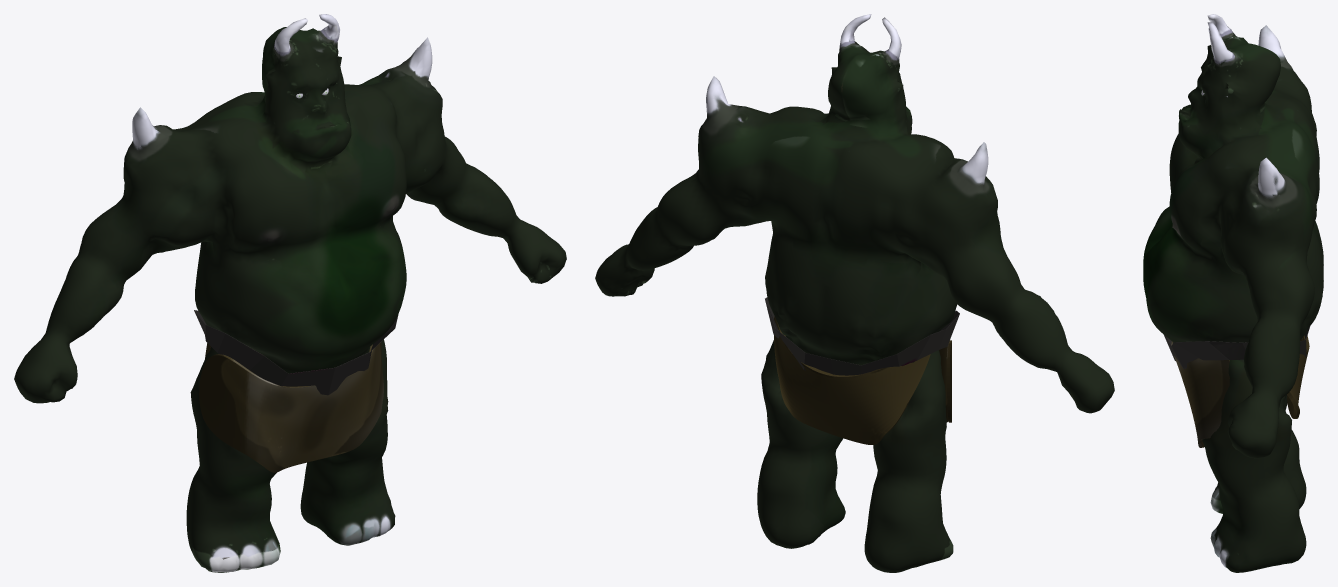
The model's file is shtiorc3.fbx.
The picture shows the model from 3 angles, left to right: view 1: azimuth 30°, elevation 25°; view 2: azimuth 150°, elevation 25°; view 3: azimuth 270°, elevation 25°; orthographic projection. The views are drawn at different scales.
Visible parts, largest first — view 1: low orc, cloth.front, belt; view 2: low orc, cloth.back, belt, cloth.front; view 3: low orc, cloth.front, belt, cloth.back.
Part boxes in pixels (<box>): low orc: <box>14,14,566,572</box>; cloth.front: <box>199,342,383,472</box>; belt: <box>194,310,398,395</box>; low orc: <box>595,14,1114,572</box>; cloth.back: <box>774,316,930,444</box>; belt: <box>765,297,959,375</box>; cloth.front: <box>939,340,951,422</box>; low orc: <box>1143,14,1323,572</box>; cloth.front: <box>1171,341,1229,447</box>; belt: <box>1164,326,1310,368</box>; cloth.back: <box>1287,335,1309,418</box>.
Size of the model in its own units: 201 by 193 by 61.36.
1 material, 1 textured.
